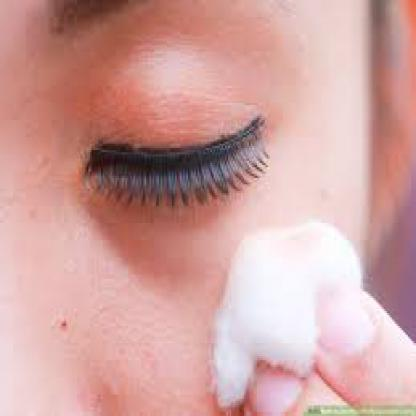darkspot: (212, 202, 245, 230), (246, 234, 256, 246), (230, 230, 240, 241), (265, 230, 271, 238), (154, 234, 160, 239)
